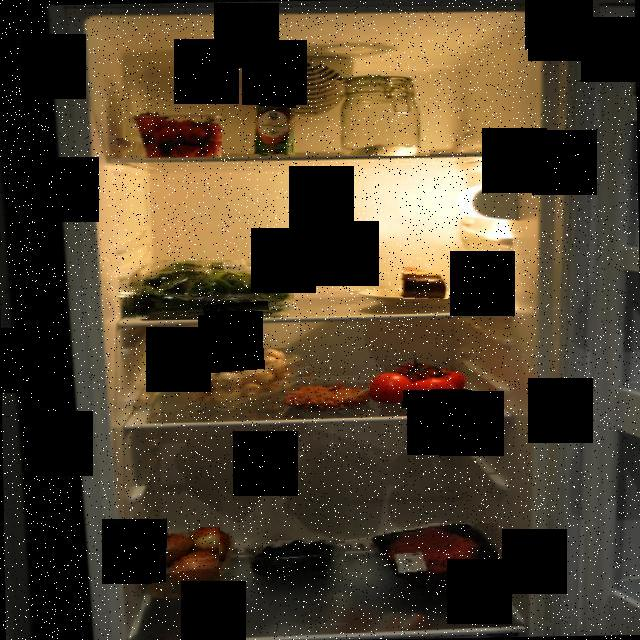blueberries: (250, 540, 346, 582)
cheese: (398, 260, 450, 299)
flour: (330, 62, 430, 156)
ground_beef: (384, 524, 498, 588)
heavy_cream: (254, 89, 297, 154)
mushrooms: (174, 348, 312, 412)
onion: (148, 527, 220, 592)
shrimp: (284, 378, 370, 413)
spinach: (123, 260, 294, 320)
strawberries: (129, 104, 222, 160)
tomato: (367, 351, 472, 408)
